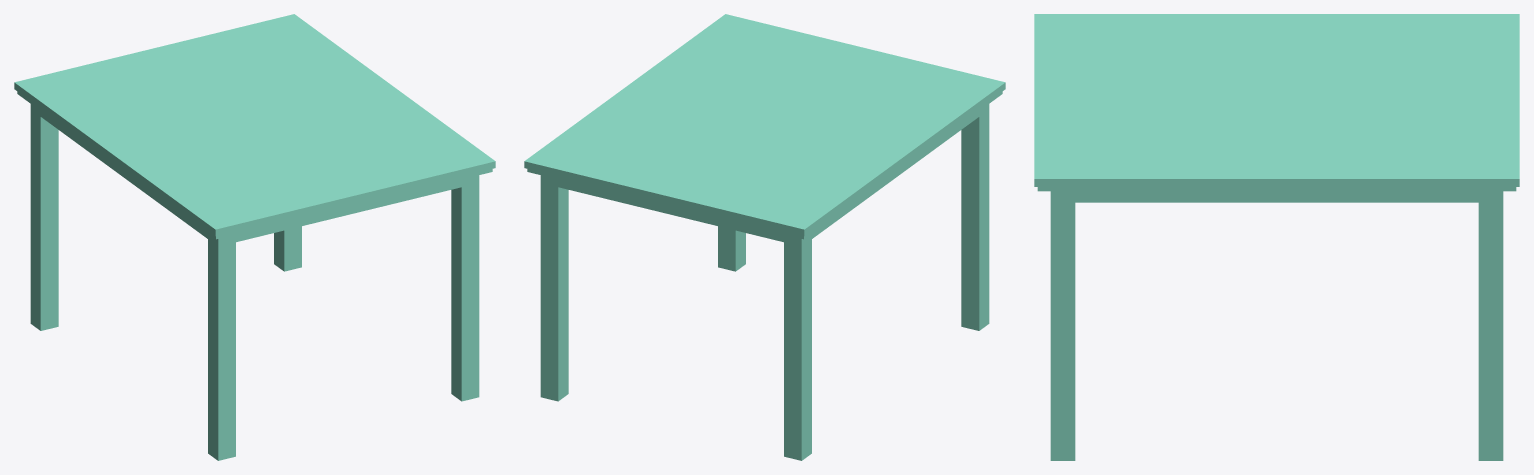
Rendered from MESA 2.fbx.
The picture shows the model from 3 angles, left to right: view 1: azimuth 30°, elevation 25°; view 2: azimuth 150°, elevation 25°; view 3: azimuth 270°, elevation 25°; orthographic projection. The views are drawn at different scales.
Visible parts, largest first — view 1: MESA 2 PERSONAS; view 2: MESA 2 PERSONAS; view 3: MESA 2 PERSONAS.
Part boxes in pixels (x1=…): MESA 2 PERSONAS: x1=14, y1=14, x2=495, y2=460; MESA 2 PERSONAS: x1=524, y1=14, x2=1005, y2=460; MESA 2 PERSONAS: x1=1034, y1=14, x2=1519, y2=460.
Bounding box in the file's own units: 86 × 70 × 107.
